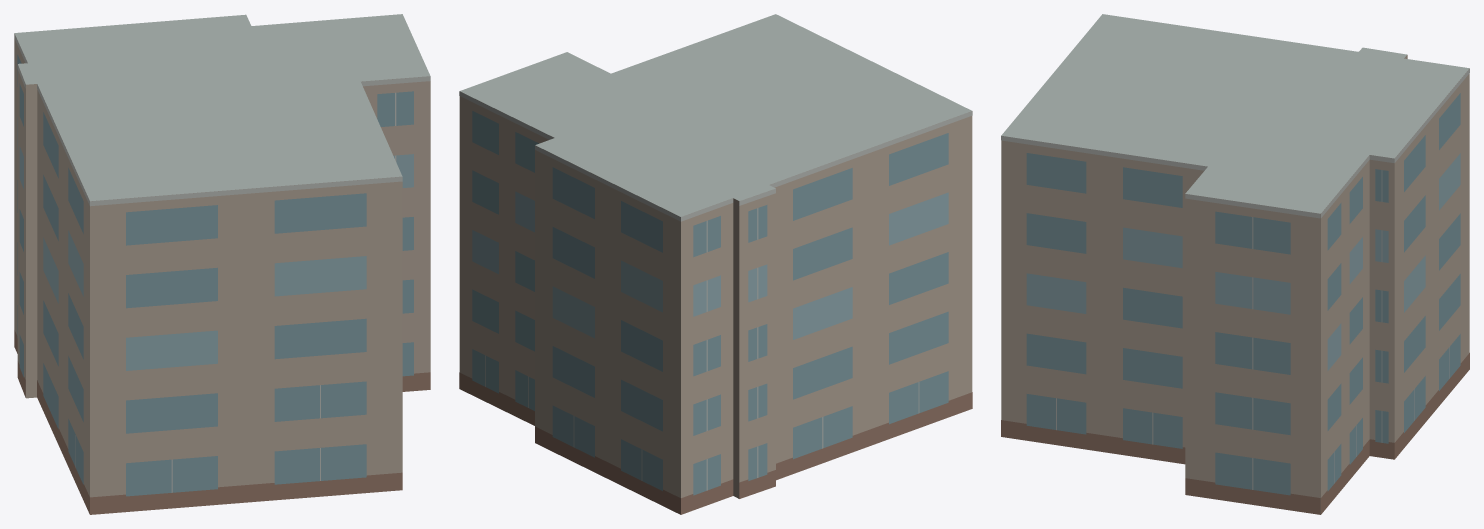
Rendered from survey-upis-32894445.glb.
The picture shows the model from 3 angles, left to right: view 1: azimuth 30°, elevation 25°; view 2: azimuth 150°, elevation 25°; view 3: azimuth 270°, elevation 25°; orthographic projection. The views are drawn at different scales.
Parts seen in each view (by area): view 1: survey-upis-32894445.tmp; view 2: survey-upis-32894445.tmp; view 3: survey-upis-32894445.tmp.
Boxes of the visible parts, bbox=[...] form: survey-upis-32894445.tmp: bbox=[14, 14, 430, 514]; survey-upis-32894445.tmp: bbox=[459, 14, 972, 514]; survey-upis-32894445.tmp: bbox=[1001, 14, 1469, 514].
Size of the model in its own units: 21.99 by 15.45 by 21.8.
